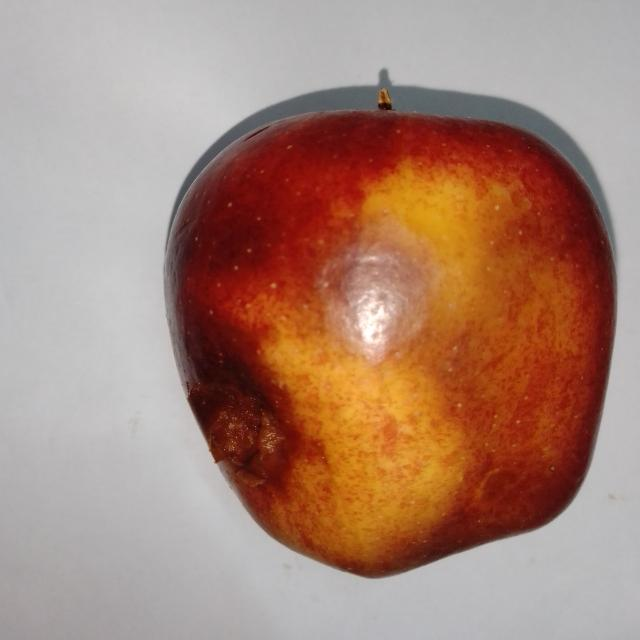apple: (166, 111, 615, 576)
